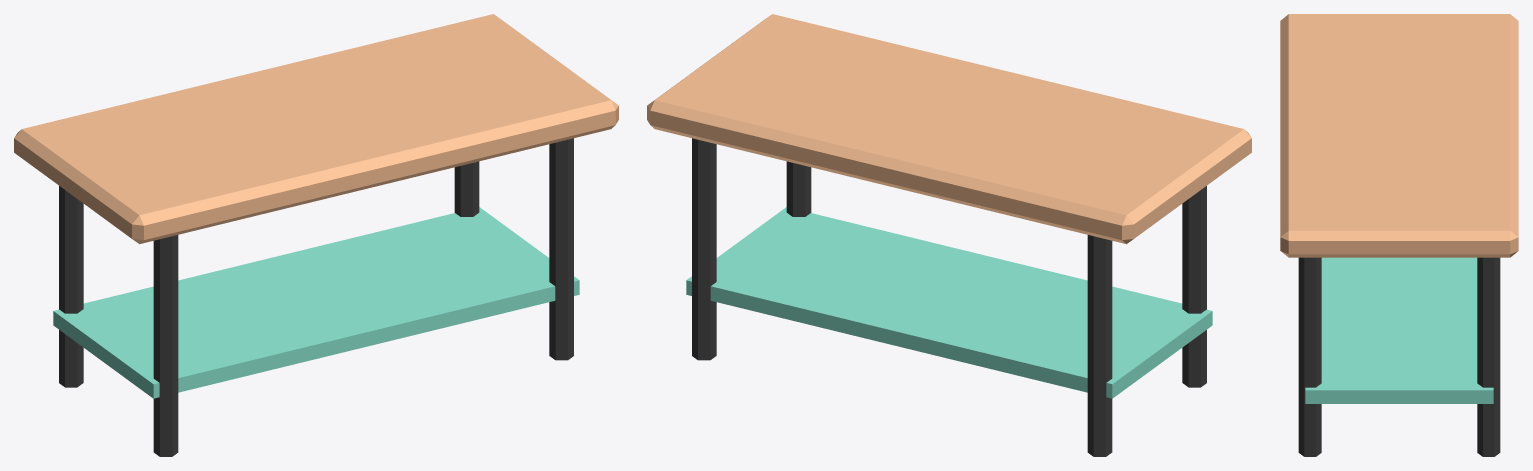
The picture shows the model from 3 angles, left to right: view 1: azimuth 30°, elevation 25°; view 2: azimuth 150°, elevation 25°; view 3: azimuth 270°, elevation 25°; orthographic projection. The views are drawn at different scales.
Parts seen in each view (by area): view 1: Worktop, Lower shelf, Leg, Leg.002, Leg.001, Leg.003; view 2: Worktop, Lower shelf, Leg.001, Leg.003, Leg, Leg.002; view 3: Worktop, Lower shelf, Leg.002, Leg.003.
Boxes of the visible parts, x1=… form: Worktop: x1=14, y1=14, x2=618, y2=244; Lower shelf: x1=53, y1=207, x2=579, y2=398; Leg: x1=153, y1=235, x2=178, y2=456; Leg.002: x1=549, y1=138, x2=573, y2=360; Leg.001: x1=59, y1=186, x2=83, y2=387; Leg.003: x1=454, y1=161, x2=479, y2=216; Worktop: x1=647, y1=14, x2=1251, y2=244; Lower shelf: x1=686, y1=207, x2=1212, y2=398; Leg.001: x1=1087, y1=235, x2=1112, y2=456; Leg.003: x1=692, y1=138, x2=716, y2=360; Leg: x1=1182, y1=186, x2=1206, y2=387; Leg.002: x1=786, y1=161, x2=811, y2=216; Worktop: x1=1280, y1=14, x2=1518, y2=257; Lower shelf: x1=1305, y1=257, x2=1493, y2=403; Leg.002: x1=1298, y1=257, x2=1321, y2=456; Leg.003: x1=1477, y1=257, x2=1500, y2=456.
Bounding box in the file's own units: 176 × 88 × 79.2.
